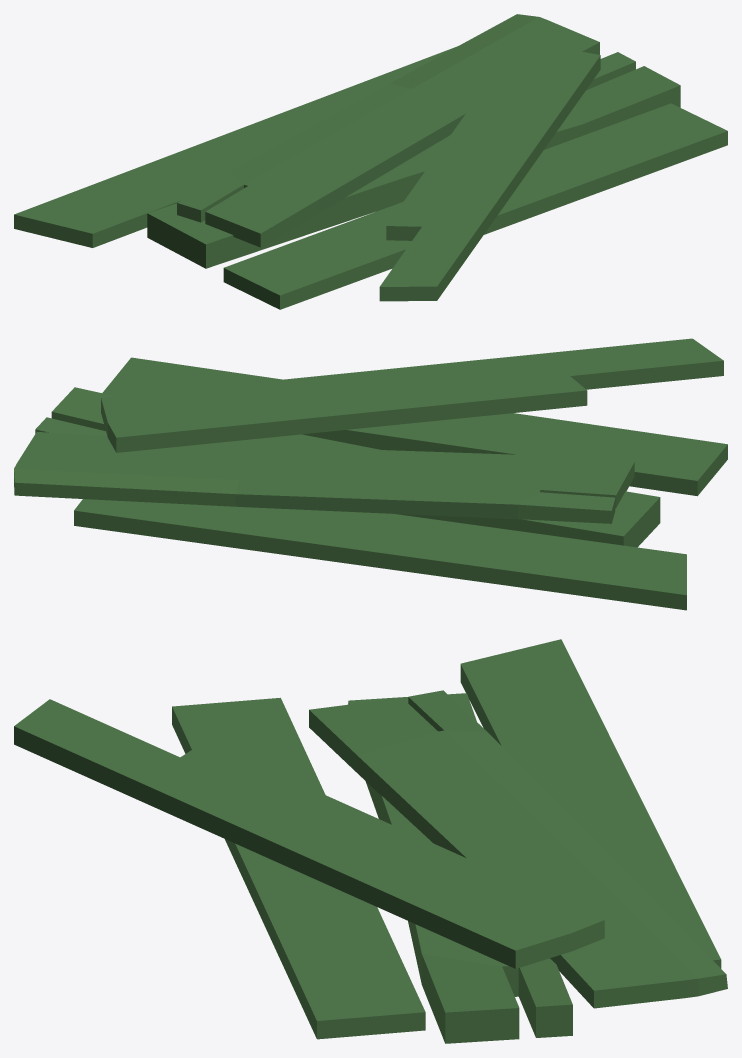
The model's file is Furniture_Board_Pile_02_Lod0.fbx.
3 renders of one model, top to bottom at view 1: azimuth 30°, elevation 25°; view 2: azimuth 150°, elevation 25°; view 3: azimuth 270°, elevation 25°, orthographic. The views are drawn at different scales.
Visible parts, largest first — view 1: Furniture_Board_Pile_02_Lod0; view 2: Furniture_Board_Pile_02_Lod0; view 3: Furniture_Board_Pile_02_Lod0.
Boxes of the visible parts, box(x1,y1,x2,y2) form: Furniture_Board_Pile_02_Lod0: box(14, 14, 727, 309); Furniture_Board_Pile_02_Lod0: box(14, 338, 727, 610); Furniture_Board_Pile_02_Lod0: box(14, 639, 727, 1043).
Bounding box in the file's own units: 94.41 × 7.75 × 73.54.
